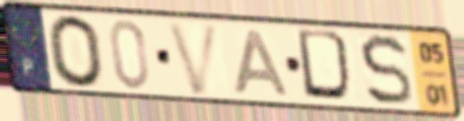0: (107, 17, 152, 92)
A: (231, 27, 292, 98)
D: (294, 26, 359, 106)
O: (44, 12, 108, 91)
S: (357, 32, 416, 109)
V: (163, 19, 224, 98)
